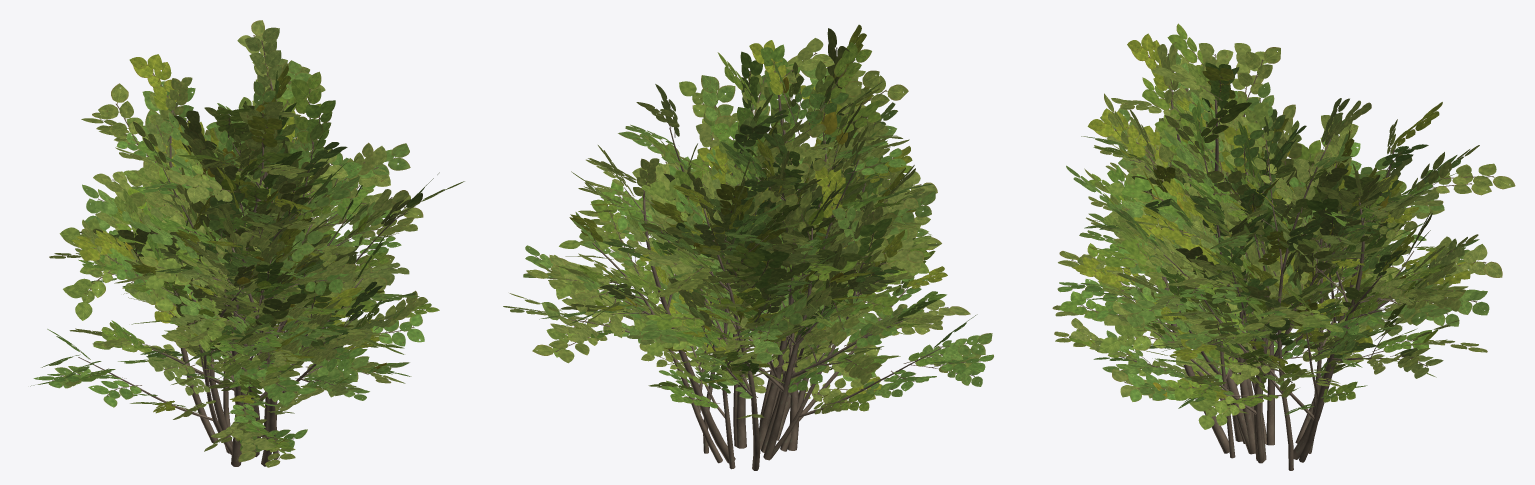
The model's file is liska_3.glb.
The picture shows the model from 3 angles, left to right: view 1: azimuth 30°, elevation 25°; view 2: azimuth 150°, elevation 25°; view 3: azimuth 270°, elevation 25°; orthographic projection.
Parts seen in each view (by area): view 1: liska_3; view 2: liska_3; view 3: liska_3.
Part boxes in pixels (x1,y1,x2,y2): liska_3: [30, 20, 464, 467]; liska_3: [503, 24, 993, 470]; liska_3: [1052, 23, 1515, 470].
Size of the model in its own units: 4.11 by 3.73 by 4.08.
2 materials, 2 textured.
